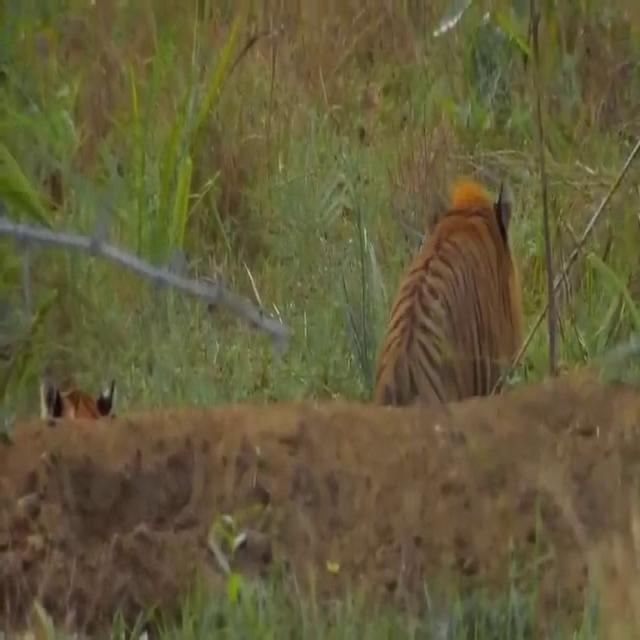tiger: (372, 165, 526, 402)
